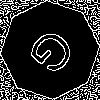G: (25, 25, 86, 85)
